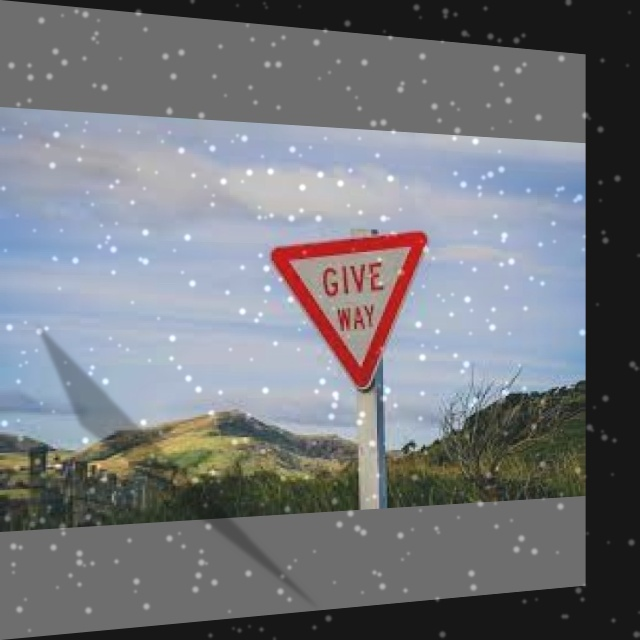Give_Way: (272, 231, 431, 387)
